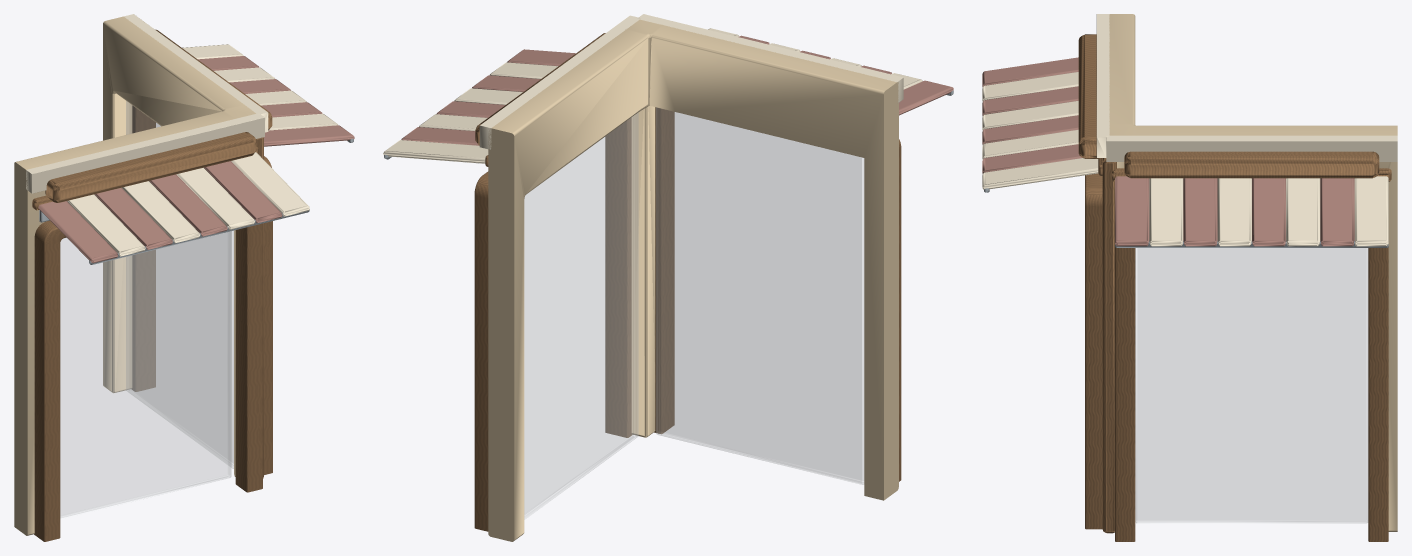
Rendered from CornerShopfront90.glb.
The picture shows the model from 3 angles, left to right: view 1: azimuth 30°, elevation 25°; view 2: azimuth 150°, elevation 25°; view 3: azimuth 270°, elevation 25°; orthographic projection. The views are drawn at different scales.
Visible parts, largest first — view 1: PBK_glass.001, PBK_substrate.001, PBK_glass.003, PBK_Continuous_Frame_Indochine_Shopfront.003, PBK_Continuous_Frame_Indochine_Shopfront.004, PBK_floor_band.001, PBK_signboard.001, PBK_awning_stripe.001, PBK_awning_stripe.008, PBK_awning_stripe.006, PBK_awning_stripe.005, PBK_awning_stripe.007 (+12 smaller); view 2: PBK_glass.001, PBK_substrate.001, PBK_glass.003, PBK_Continuous_Frame_Indochine_Shopfront.004, PBK_Continuous_Frame_Indochine_Shopfront.003, PBK_floor_band.001, PBK_awning_stripe.016, PBK_awning_stripe.015, PBK_awning_stripe.001, PBK_awning_stripe.014, PBK_awning_stripe.012, PBK_awning_stripe.013 (+3 smaller); view 3: PBK_glass.003, PBK_Continuous_Frame_Indochine_Shopfront.004, PBK_substrate.001, PBK_floor_band.001, PBK_signboard.002, PBK_Continuous_Frame_Indochine_Shopfront.003, PBK_ShopCornerPost90.021, PBK_awning_stripe.016, PBK_awning_stripe.009, PBK_awning_stripe.012, PBK_awning_stripe.011, PBK_awning_stripe.014 (+13 smaller).
Part boxes in pixels (x1,y1,x2,y2): PBK_glass.001: (60, 231, 231, 518); PBK_substrate.001: (14, 16, 255, 535); PBK_glass.003: (126, 101, 233, 468); PBK_Continuous_Frame_Indochine_Shopfront.003: (34, 220, 262, 541); PBK_Continuous_Frame_Indochine_Shopfront.004: (132, 105, 272, 474); PBK_floor_band.001: (26, 14, 268, 193); PBK_signboard.001: (45, 132, 256, 202); PBK_awning_stripe.001: (38, 201, 118, 263); PBK_awning_stripe.008: (231, 152, 309, 216); PBK_awning_stripe.006: (176, 167, 254, 229); PBK_awning_stripe.005: (149, 174, 227, 236); PBK_awning_stripe.007: (204, 161, 282, 223); PBK_glass.001: (656, 107, 863, 484); PBK_substrate.001: (488, 19, 898, 541); PBK_glass.003: (524, 113, 638, 519); PBK_Continuous_Frame_Indochine_Shopfront.004: (474, 117, 632, 531); PBK_Continuous_Frame_Indochine_Shopfront.003: (654, 107, 901, 481); PBK_floor_band.001: (479, 14, 903, 149); PBK_awning_stripe.016: (383, 140, 488, 163); PBK_awning_stripe.015: (401, 127, 478, 145); PBK_awning_stripe.001: (899, 80, 953, 115); PBK_awning_stripe.014: (419, 114, 487, 130); PBK_awning_stripe.012: (454, 88, 522, 104); PBK_awning_stripe.013: (436, 101, 504, 117); PBK_glass.003: (1135, 248, 1367, 523); PBK_Continuous_Frame_Indochine_Shopfront.004: (1115, 247, 1388, 541); PBK_substrate.001: (1109, 14, 1397, 531); PBK_floor_band.001: (1096, 14, 1397, 161); PBK_signboard.002: (1124, 151, 1379, 178); PBK_Continuous_Frame_Indochine_Shopfront.003: (1085, 173, 1102, 529); PBK_ShopCornerPost90.021: (1102, 158, 1116, 533); PBK_awning_stripe.016: (1354, 176, 1388, 246); PBK_awning_stripe.009: (1115, 176, 1149, 246); PBK_awning_stripe.012: (1217, 178, 1251, 246); PBK_awning_stripe.011: (1183, 178, 1217, 246); PBK_awning_stripe.014: (1286, 178, 1320, 246).
Bounding box in the file's own units: 2.85 × 3 × 2.85.
7 materials, 2 textured.
